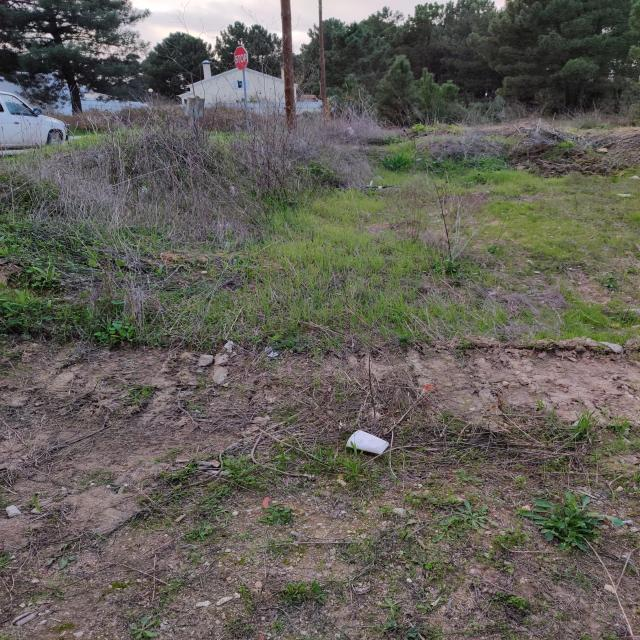litter: (332, 404, 411, 467)
